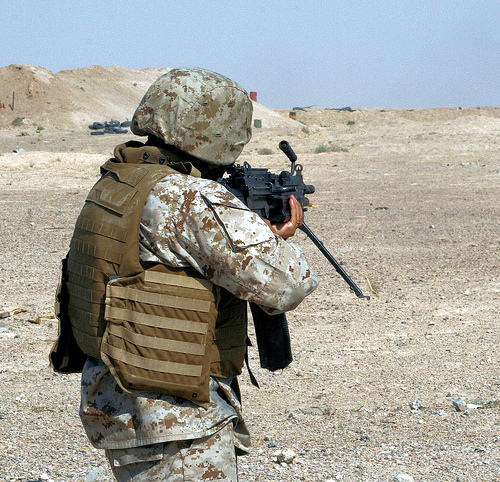rifle: (243, 153, 318, 196)
rifle in hand: (216, 126, 360, 315)
